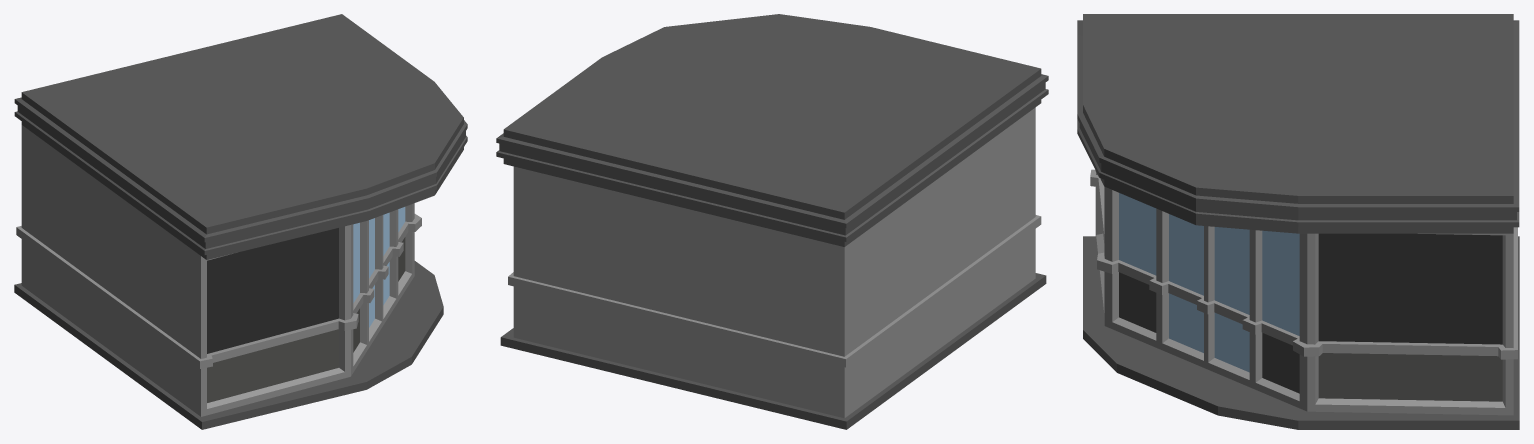
The model's file is SM_Bld_Section_Corner_01.fbx.
The picture shows the model from 3 angles, left to right: view 1: azimuth 30°, elevation 25°; view 2: azimuth 150°, elevation 25°; view 3: azimuth 270°, elevation 25°; orthographic projection. The views are drawn at different scales.
Visible parts, largest first — view 1: SM_Bld_Section_Corner_01; view 2: SM_Bld_Section_Corner_01; view 3: SM_Bld_Section_Corner_01.
Part boxes in pixels (box(x1,y1,x2,y2)): SM_Bld_Section_Corner_01: box(14, 14, 467, 429); SM_Bld_Section_Corner_01: box(496, 14, 1048, 429); SM_Bld_Section_Corner_01: box(1077, 14, 1519, 429).
Size of the model in its own units: 514 by 300 by 514.
